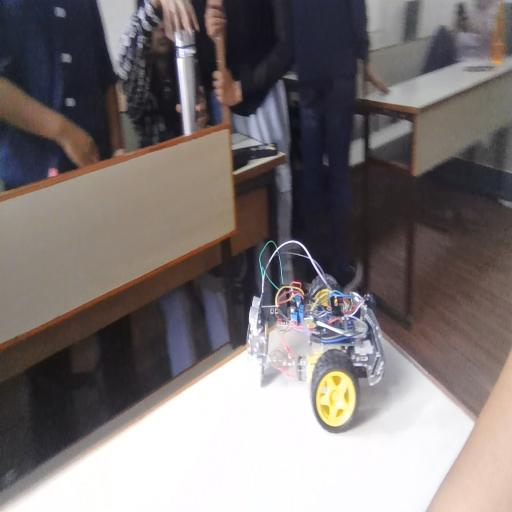car: (237, 235, 390, 442)
